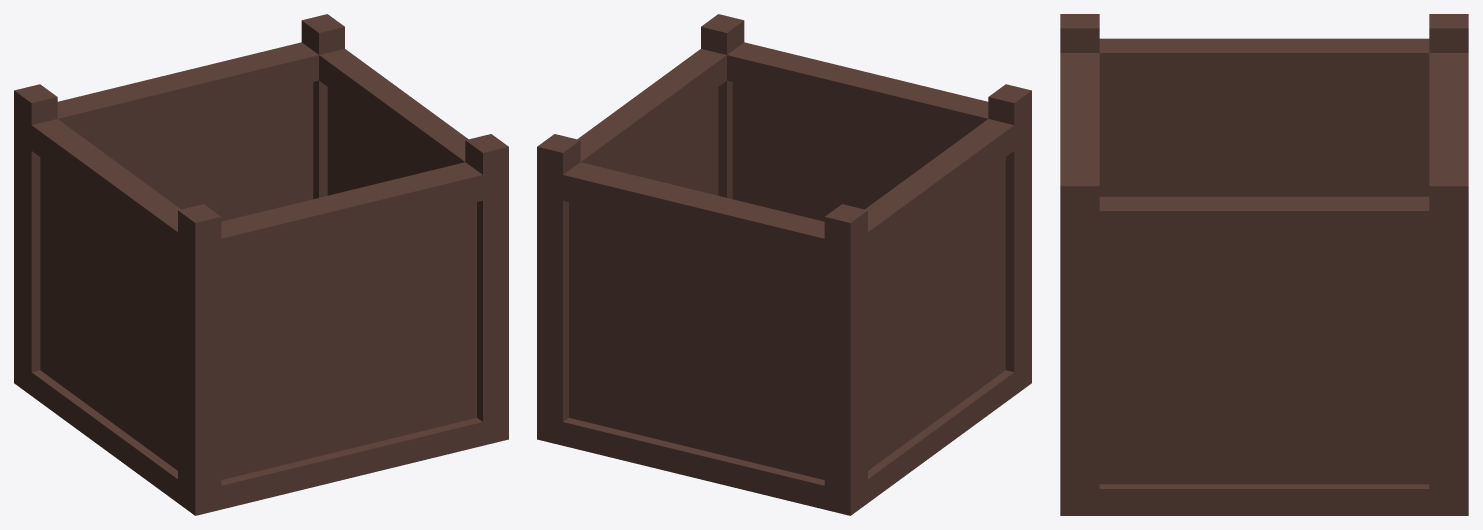
File: wood_crate.fbx
3 renders of one model, left to right at view 1: azimuth 30°, elevation 25°; view 2: azimuth 150°, elevation 25°; view 3: azimuth 270°, elevation 25°, orthographic. The views are drawn at different scales.
Parts seen in each view (by area): view 1: wood_crate; view 2: wood_crate; view 3: wood_crate.
Boxes of the visible parts, bbox=[...] form: wood_crate: bbox=[14, 14, 508, 515]; wood_crate: bbox=[537, 14, 1031, 515]; wood_crate: bbox=[1060, 14, 1468, 515].
Size of the model in its own units: 118 by 105 by 118.
